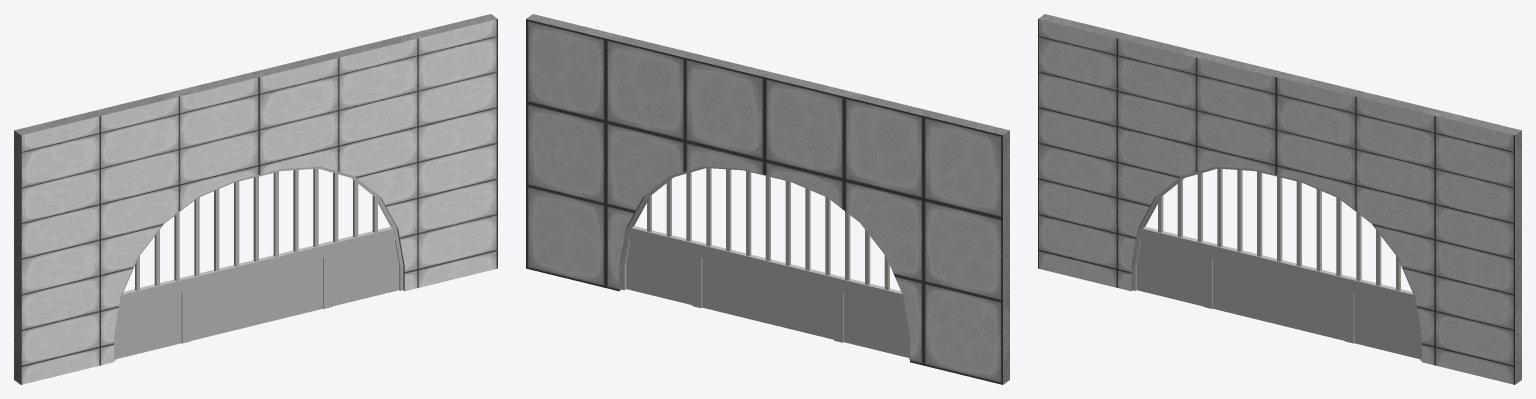
File: SM_Wall_Sewerage.fbx
The picture shows the model from 3 angles, left to right: view 1: azimuth 30°, elevation 25°; view 2: azimuth 150°, elevation 25°; view 3: azimuth 330°, elevation 25°; orthographic projection.
Visible parts, largest first — view 1: SM_Wall_Sewerage; view 2: SM_Wall_Sewerage; view 3: SM_Wall_Sewerage.
Boxes of the visible parts, x1=… form: SM_Wall_Sewerage: x1=14, y1=14, x2=497, y2=384; SM_Wall_Sewerage: x1=526, y1=14, x2=1009, y2=384; SM_Wall_Sewerage: x1=1038, y1=14, x2=1521, y2=384.
Size of the model in its own units: 800 by 400 by 20.
